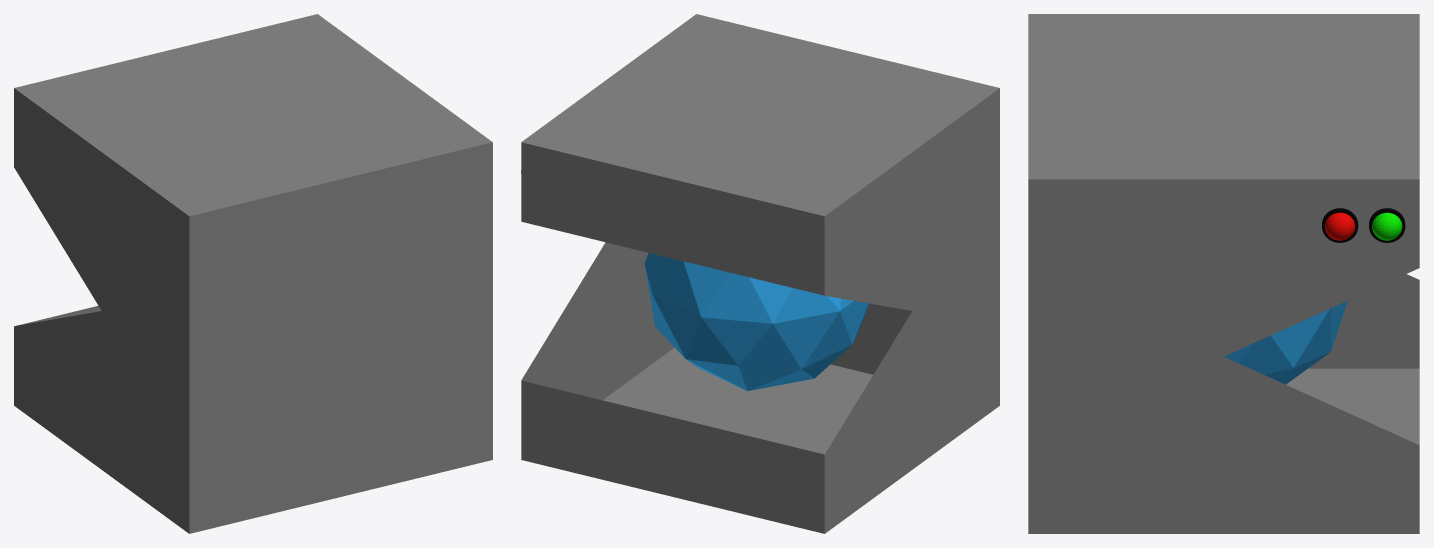
File: repulserCube.fbx
3 views of the same model, side by side, from view 1: azimuth 30°, elevation 25°; view 2: azimuth 150°, elevation 25°; view 3: azimuth 270°, elevation 25° (orthographic). The views are drawn at different scales.
Visible parts, largest first — view 1: Cube; view 2: Cube, Icosphere; view 3: Cube, Icosphere, Sphere, Sphere.001.
Boxes of the visible parts, box(x1,y1,x2,y2) form: Cube: box(14, 14, 492, 533); Cube: box(521, 14, 999, 533); Icosphere: box(644, 253, 868, 391); Cube: box(1028, 14, 1419, 533); Icosphere: box(1224, 301, 1347, 384); Sphere: box(1372, 212, 1402, 240); Sphere.001: box(1325, 212, 1355, 240).
Size of the model in its own units: 208 by 200 by 200.
